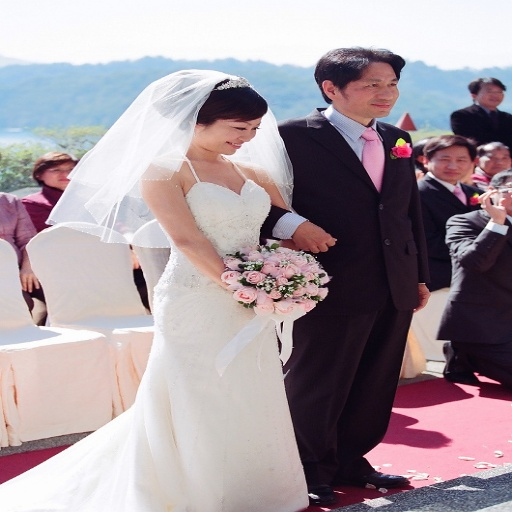hand: (284, 216, 337, 256), (475, 186, 506, 218), (17, 261, 39, 293), (411, 283, 429, 312), (127, 248, 140, 268)
